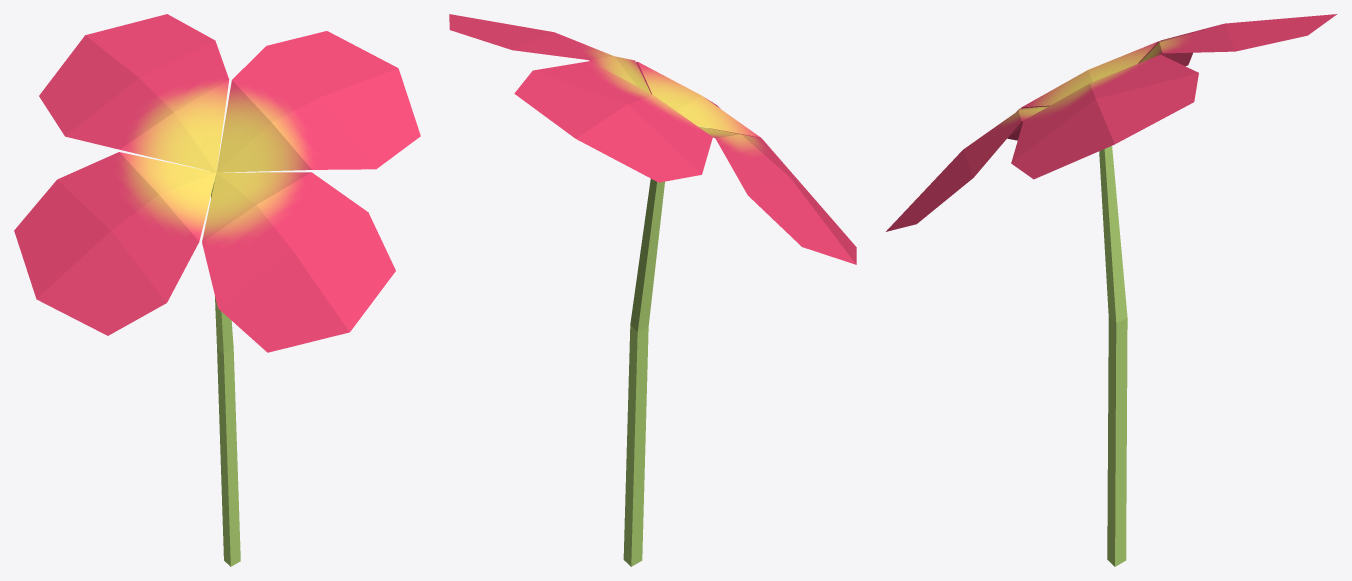
Rendered from Flower_c_OneS_02.fbx.
3 views of the same model, side by side, from view 1: azimuth 30°, elevation 25°; view 2: azimuth 150°, elevation 25°; view 3: azimuth 270°, elevation 25° (orthographic). The views are drawn at different scales.
Parts seen in each view (by area): view 1: Flower_c_OneS_02; view 2: Flower_c_OneS_02; view 3: Flower_c_OneS_02.
Part boxes in pixels (<box>): Flower_c_OneS_02: <box>14,14,420,566</box>; Flower_c_OneS_02: <box>449,14,856,566</box>; Flower_c_OneS_02: <box>886,14,1336,566</box>.
Bounding box in the file's own units: 0.3014 × 0.3795 × 0.2891.
